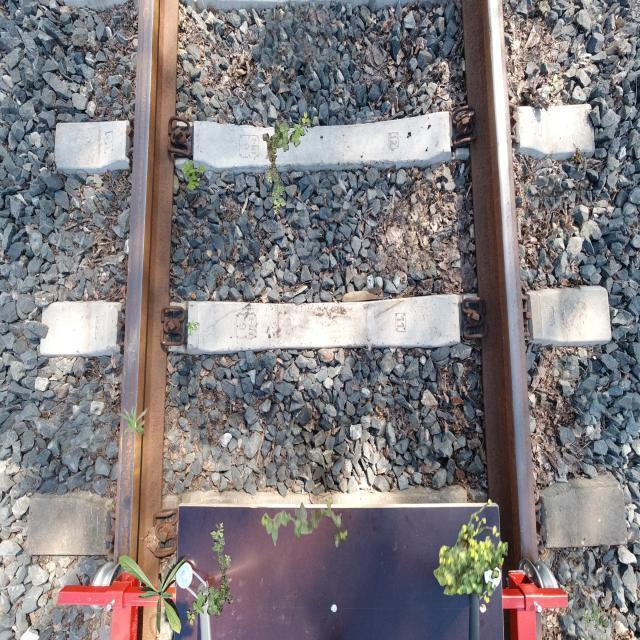Plant: (433, 499, 508, 604), (119, 554, 190, 635), (263, 112, 312, 216), (186, 522, 234, 626), (261, 496, 348, 548), (115, 402, 148, 436), (582, 602, 610, 632), (181, 160, 205, 190), (186, 322, 200, 338)
